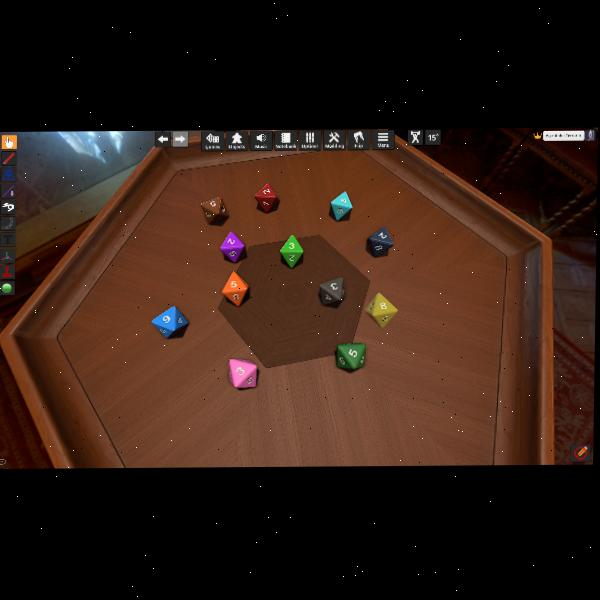d8: (363, 293, 398, 329), (152, 305, 188, 337), (221, 272, 248, 306), (229, 358, 258, 388), (366, 226, 393, 257), (199, 196, 227, 224), (254, 181, 278, 213), (281, 234, 304, 267), (336, 343, 365, 369), (220, 230, 245, 260), (330, 190, 352, 221), (319, 277, 342, 304)
